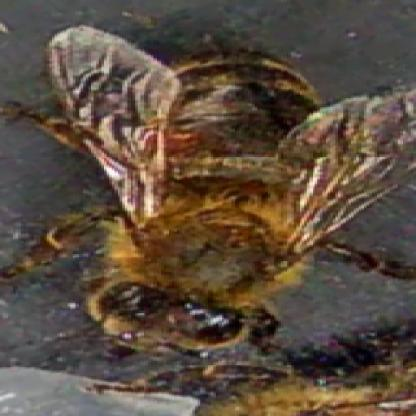bee: (51, 30, 369, 355)
